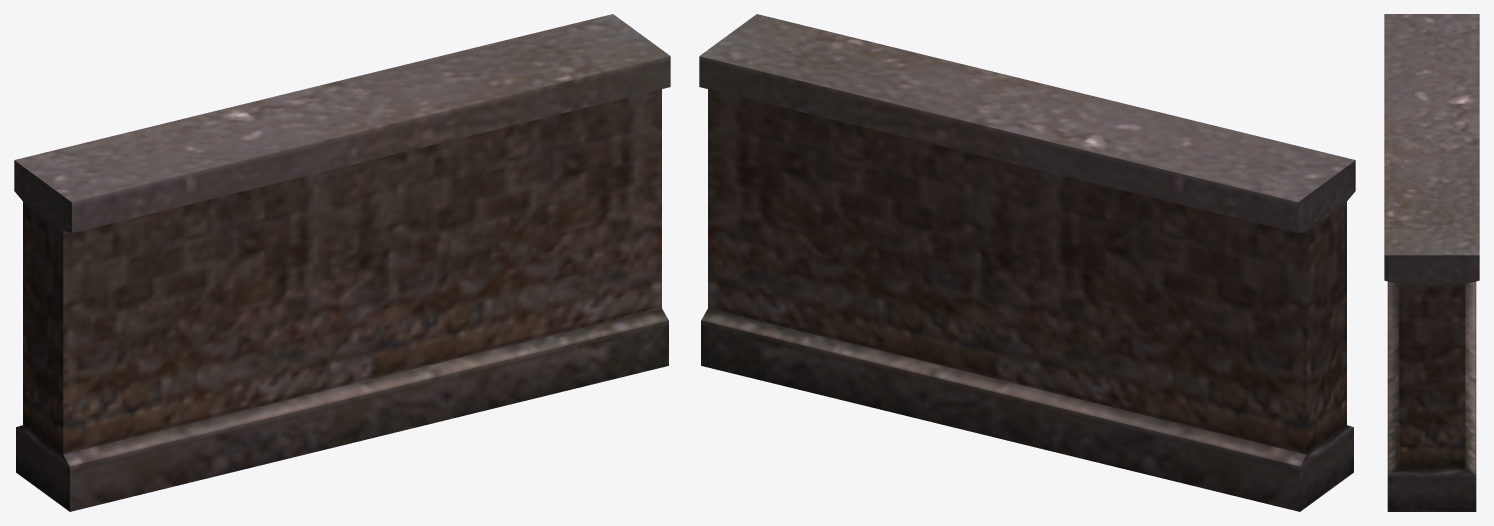
Rendered from SM_zhucheng_canqiang02.FBX.
The picture shows the model from 3 angles, left to right: view 1: azimuth 30°, elevation 25°; view 2: azimuth 150°, elevation 25°; view 3: azimuth 270°, elevation 25°; orthographic projection. The views are drawn at different scales.
Parts seen in each view (by area): view 1: SM_zhucheng_canqiang02; view 2: SM_zhucheng_canqiang02; view 3: SM_zhucheng_canqiang02.
Boxes of the visible parts, x1=… form: SM_zhucheng_canqiang02: x1=14, y1=14, x2=670, y2=511; SM_zhucheng_canqiang02: x1=699, y1=14, x2=1355, y2=511; SM_zhucheng_canqiang02: x1=1384, y1=14, x2=1479, y2=511.
Size of the model in its own units: 677 by 336 by 113.
